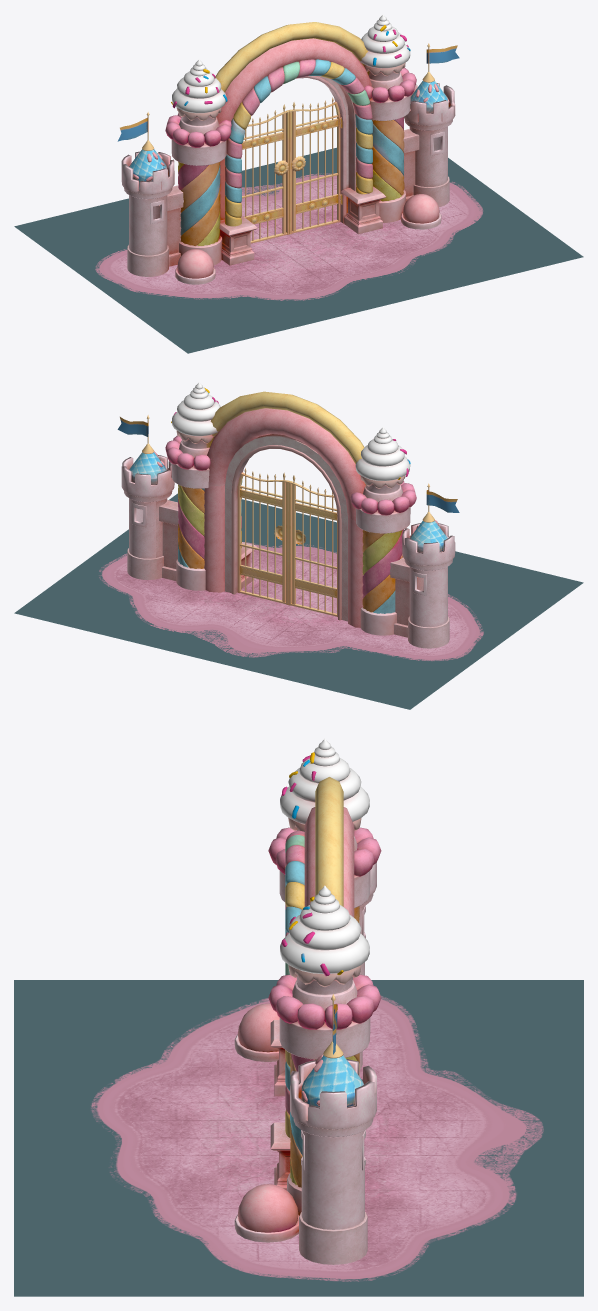
The model's file is DaMen.fbx.
The picture shows the model from 3 angles, top to bottom: view 1: azimuth 30°, elevation 25°; view 2: azimuth 150°, elevation 25°; view 3: azimuth 270°, elevation 25°; orthographic projection. The views are drawn at different scales.
Visible parts, largest first — view 1: dm_wall, dm_ground, dm_door_L, dm_door_R; view 2: dm_wall, dm_ground, dm_door_L, dm_door_R; view 3: dm_ground, dm_wall.
Boxes of the visible parts, x1,y1,x2,y2 form: dm_wall: (117,14,459,284); dm_ground: (14,147,583,353); dm_door_L: (288,97,342,234); dm_door_R: (241,104,289,243); dm_wall: (117,382,459,648); dm_ground: (14,493,583,709); dm_door_L: (237,468,289,604); dm_door_R: (288,475,337,616); dm_ground: (14,980,583,1296); dm_wall: (234,738,381,1264).
Size of the model in its own units: 1412 by 717 by 1074.
